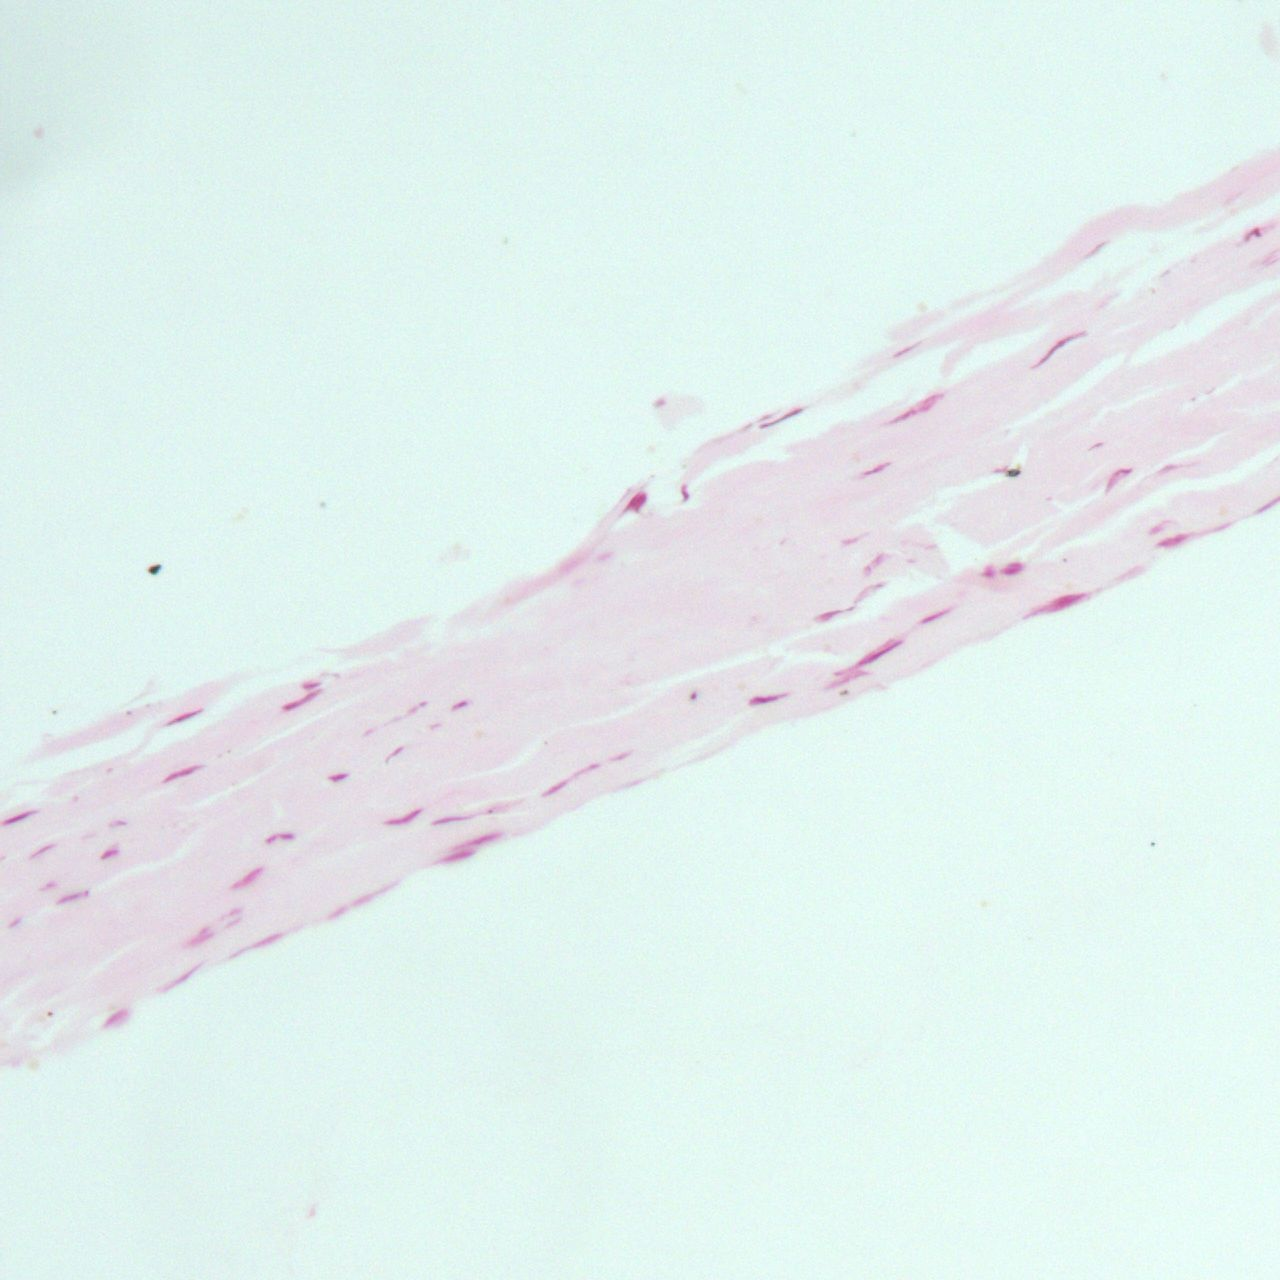dust: (147, 564, 162, 577), (1005, 469, 1022, 476), (837, 689, 851, 696), (47, 1012, 54, 1017), (144, 701, 151, 707), (486, 809, 493, 813), (125, 710, 132, 715), (52, 712, 56, 715), (227, 749, 231, 754)
nucleus-AC: (1024, 587, 1089, 621), (1030, 328, 1083, 369), (893, 390, 946, 425), (853, 636, 904, 670), (231, 930, 285, 959), (349, 881, 399, 908), (159, 758, 204, 787), (227, 864, 267, 893), (279, 687, 325, 712), (162, 964, 202, 990), (760, 406, 803, 430), (1099, 462, 1133, 492), (164, 706, 204, 730), (0, 804, 39, 829), (384, 806, 424, 830), (52, 887, 90, 908), (437, 846, 477, 866), (1155, 531, 1190, 552), (853, 580, 886, 601), (458, 832, 501, 849), (102, 1006, 131, 1029), (830, 669, 869, 687), (862, 458, 893, 478), (1153, 459, 1189, 476), (745, 692, 787, 706), (862, 552, 886, 576), (430, 813, 475, 826), (817, 604, 847, 622), (28, 840, 55, 862), (920, 607, 949, 626), (188, 927, 212, 949), (627, 489, 649, 513), (893, 340, 924, 358), (542, 778, 568, 797), (383, 744, 406, 763), (1087, 238, 1108, 257), (608, 747, 632, 763), (97, 845, 121, 862), (36, 879, 60, 896), (1148, 518, 1170, 535), (576, 761, 599, 776), (327, 905, 348, 921), (264, 832, 295, 843), (222, 906, 241, 921), (1001, 563, 1024, 574), (6, 915, 23, 931), (449, 699, 468, 713), (1087, 440, 1105, 452), (360, 726, 377, 738), (1245, 227, 1262, 238), (301, 680, 322, 688), (328, 774, 349, 781), (982, 566, 994, 578), (681, 485, 689, 501), (109, 821, 127, 828), (840, 537, 858, 543), (428, 723, 441, 729), (690, 692, 697, 702), (418, 702, 427, 707)
